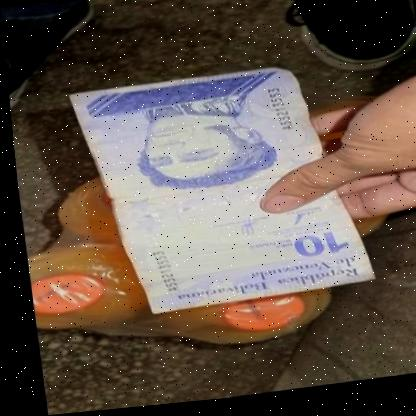ten-front-vef: (61, 62, 373, 323)
